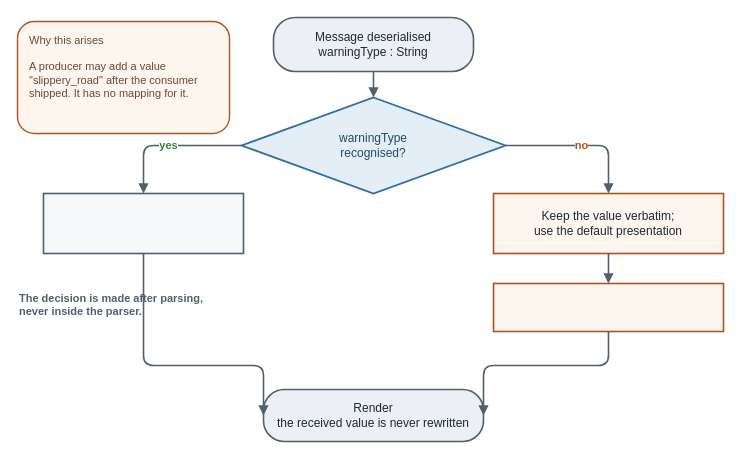
Some shapes in this 742 by 460 pixel diagram are drawn without their labels. Here are the shapes that lost their labels. From the top down, the box of each, then its label:
(42, 192, 244, 254): Map to its own presentation
(492, 282, 724, 332): Log the value once
